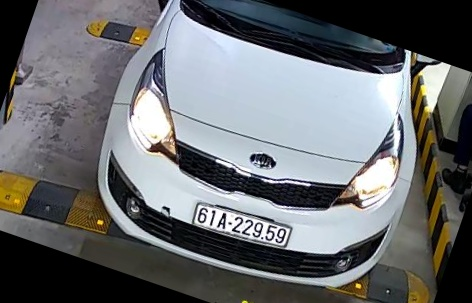plate: (187, 199, 299, 254)
